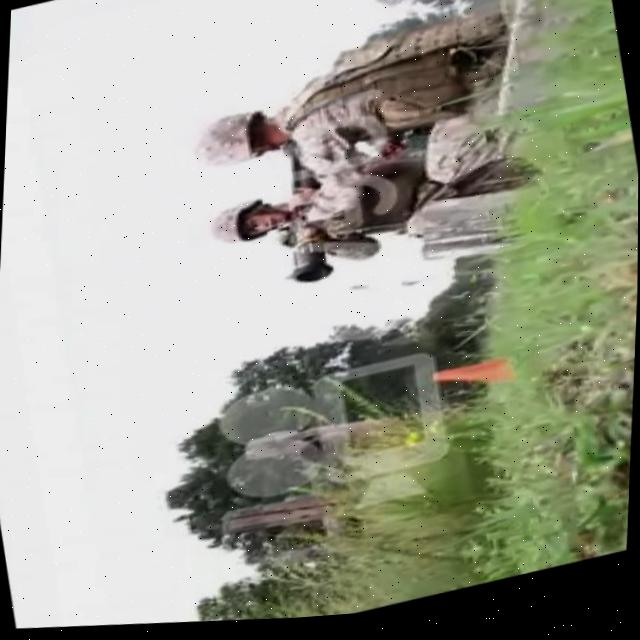rocket: (271, 173, 340, 295)
